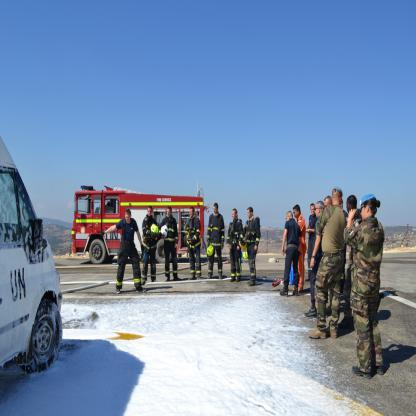car: (2, 158, 60, 375)
